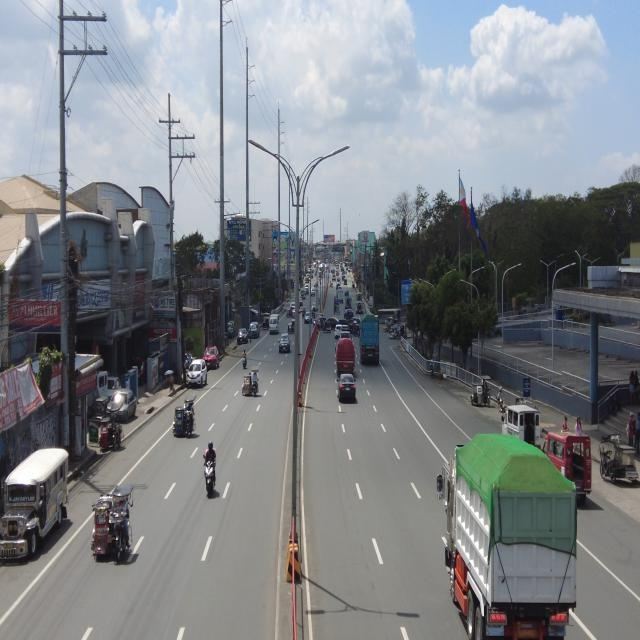Motorcycle: (194, 451, 222, 499)
Truck: (440, 425, 585, 640)
